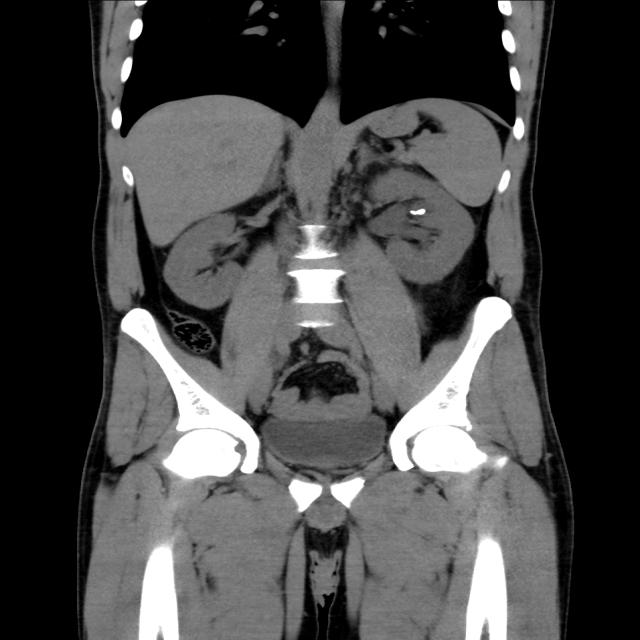kidneystone: (409, 209, 427, 215)
